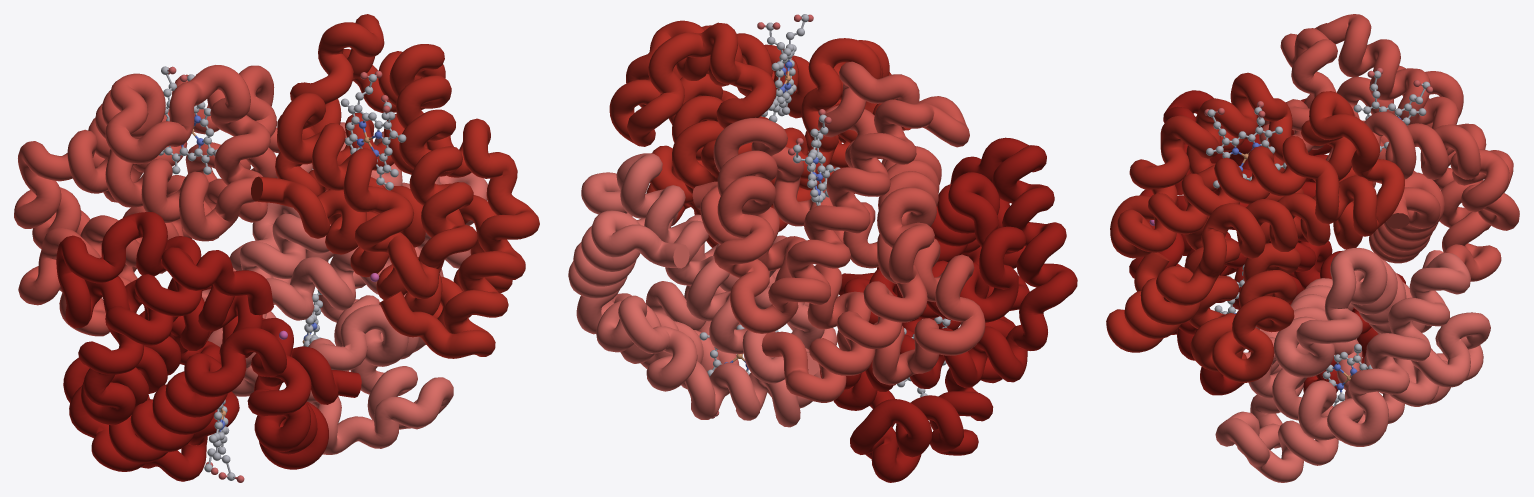
File: hero-hemoglobin.glb
3 renders of one model, left to right at view 1: azimuth 30°, elevation 25°; view 2: azimuth 150°, elevation 25°; view 3: azimuth 270°, elevation 25°, orthographic. The views are drawn at different scales.
Visible parts, largest first — view 1: 4HHB_export; view 2: 4HHB_export; view 3: 4HHB_export.
Boxes of the visible parts, <box> form: 4HHB_export: <box>14,14,539,482</box>; 4HHB_export: <box>568,14,1077,482</box>; 4HHB_export: <box>1106,14,1519,482</box>.
Size of the model in its own units: 0.6565 by 0.5759 by 0.5632.
